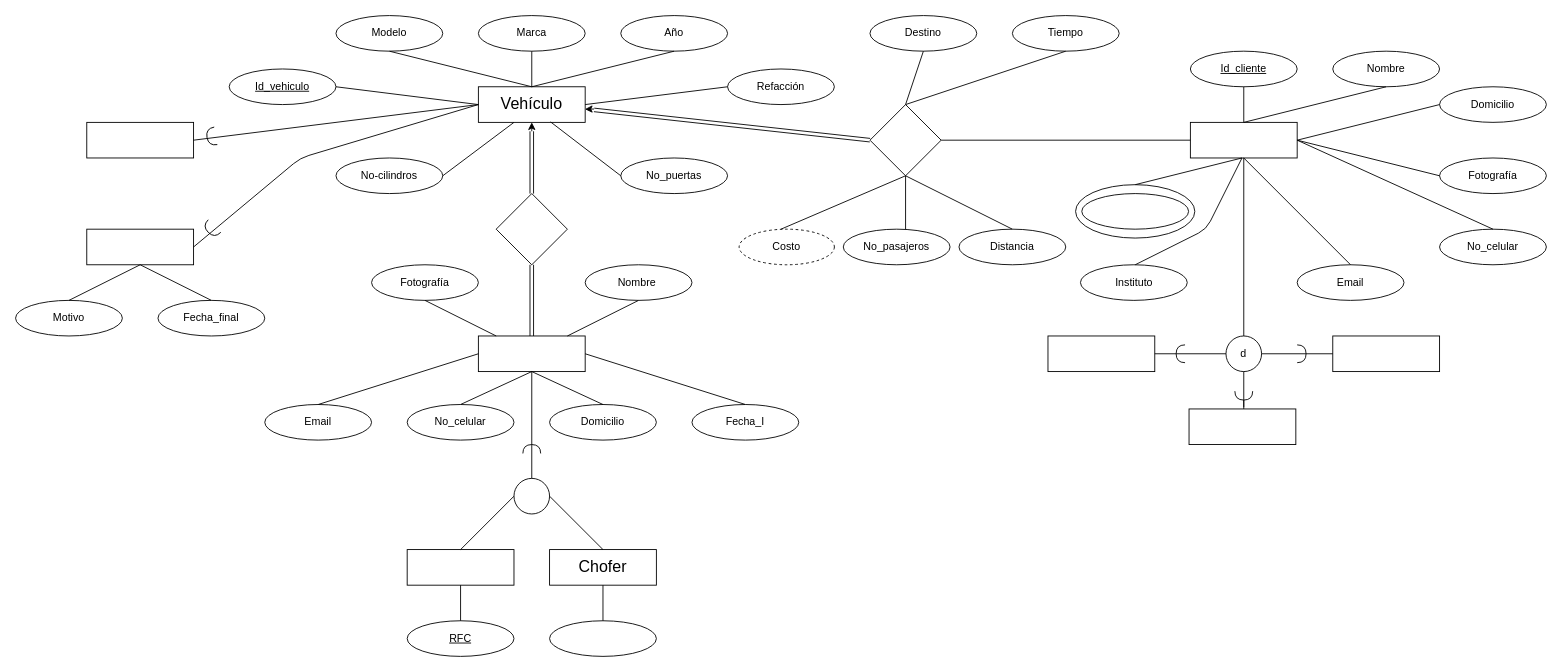
The diagram is 1562 pixels wide and 672 high, and some of its shapes have lost their labels. Each missing label, with the centre of its shape:
"Cliente" belongs at [1243,139].
"DadoDeBaja" belongs at [140,246].
"Dueño" belongs at [460,567].
"EnOperación" belongs at [140,139].
"Estudiante" belongs at [1101,353].
"Horario" belongs at [1135,211].
"MiembroAsociación" belongs at [531,353].
"NumeroLicencia" belongs at [602,638].
"Opera" belongs at [531,229].
"Profesor" belongs at [1386,353].
"Trabajador" belongs at [1242,426].
"Viaja" belongs at [905,140].
